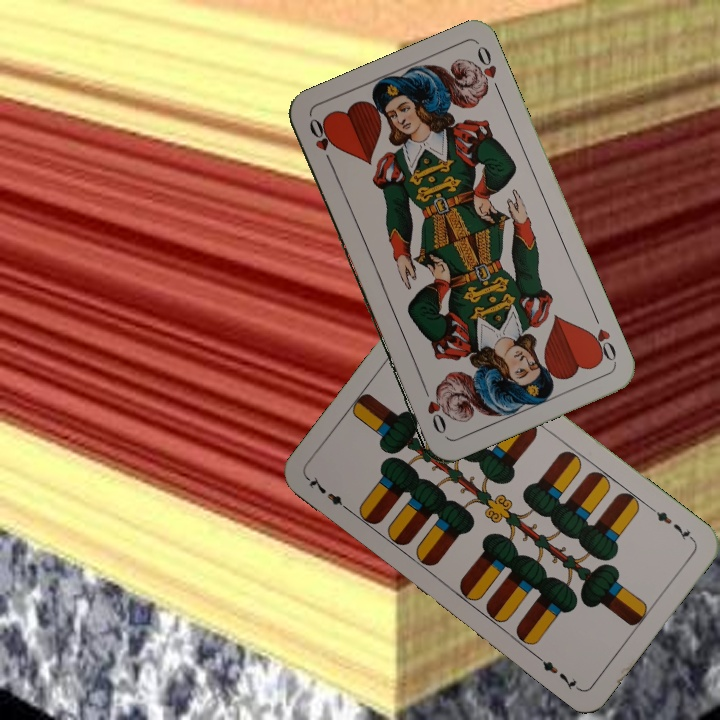E7: (303, 472, 354, 515), (646, 503, 697, 544)
HO: (583, 309, 619, 365), (305, 114, 337, 170)
